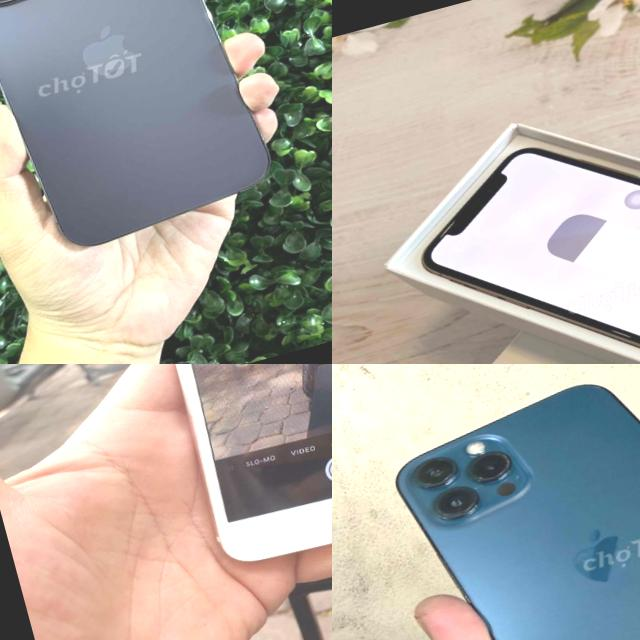gen_12_13: (396, 384, 640, 640)
gen_14: (0, 0, 292, 272)
gen_6: (103, 364, 332, 583)
gen_x_xs: (332, 8, 640, 364)
